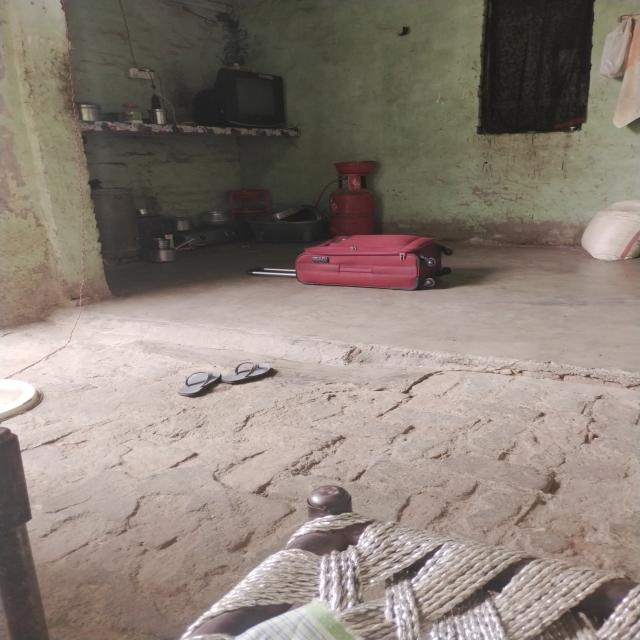suitcaserotation: (243, 231, 458, 292)
